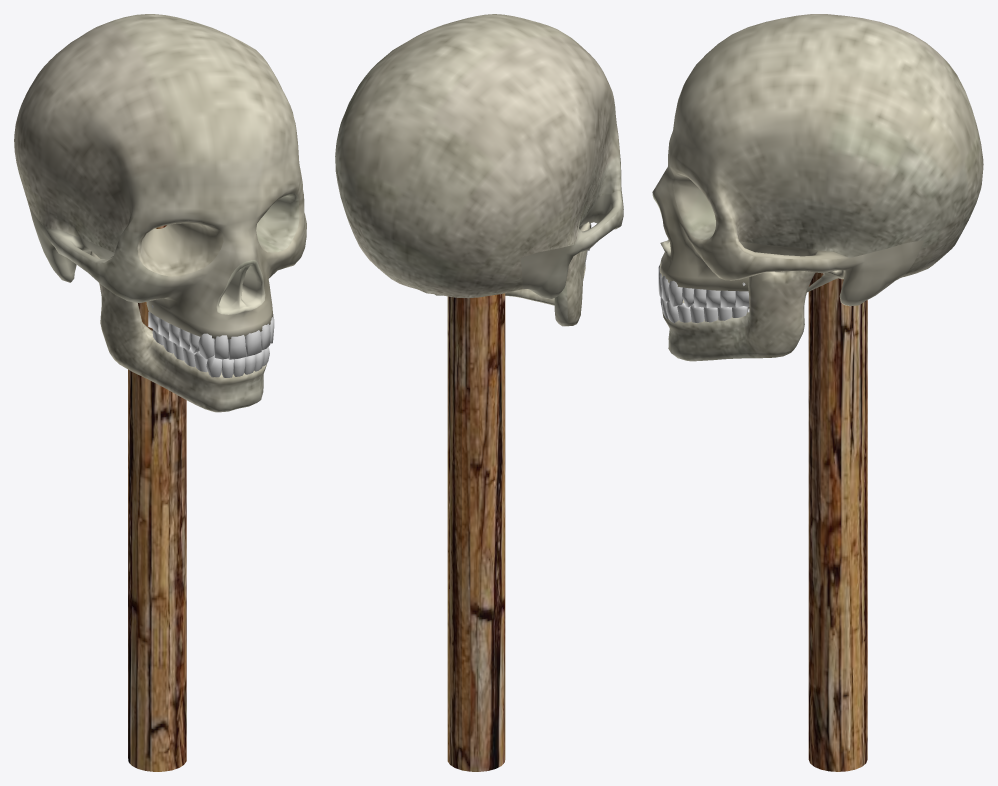
Rendered from Lever.fbx.
3 renders of one model, left to right at view 1: azimuth 30°, elevation 25°; view 2: azimuth 150°, elevation 25°; view 3: azimuth 270°, elevation 25°, orthographic.
Parts seen in each view (by area): view 1: Lever; view 2: Lever; view 3: Lever.
Boxes of the visible parts, x1,y1,x2,y2 form: Lever: [14, 14, 306, 771]; Lever: [335, 14, 623, 771]; Lever: [652, 14, 983, 771].
Size of the model in its own units: 0.2723 by 0.8234 by 0.3365.
